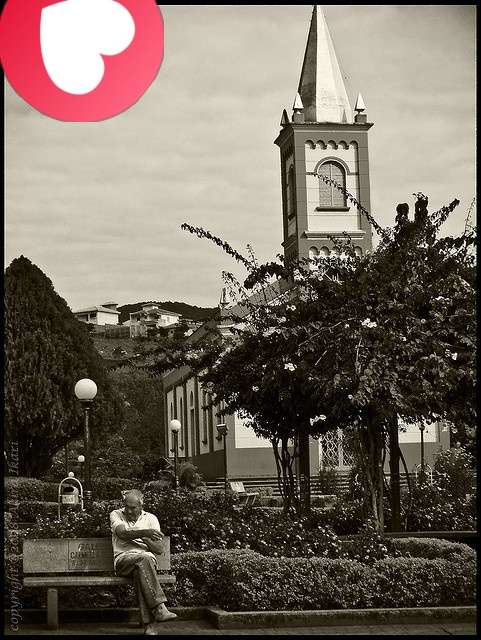love: (0, 0, 164, 122)
